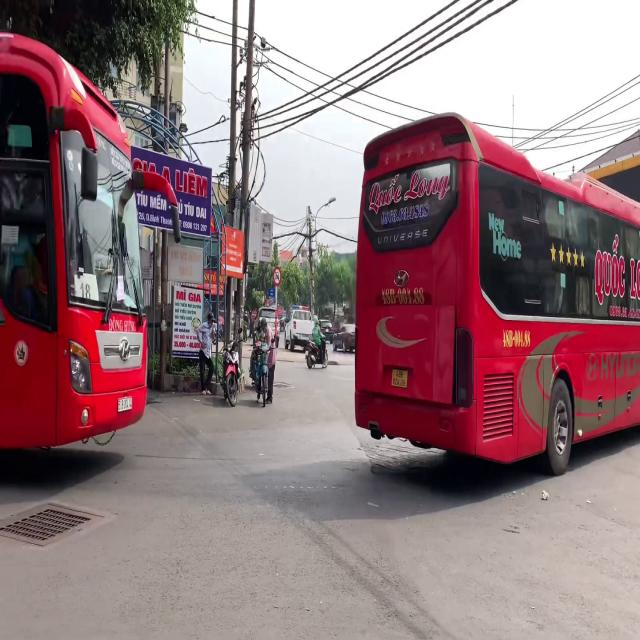bien_trang: (117, 396, 135, 412)
bien_vang: (391, 367, 408, 389)
